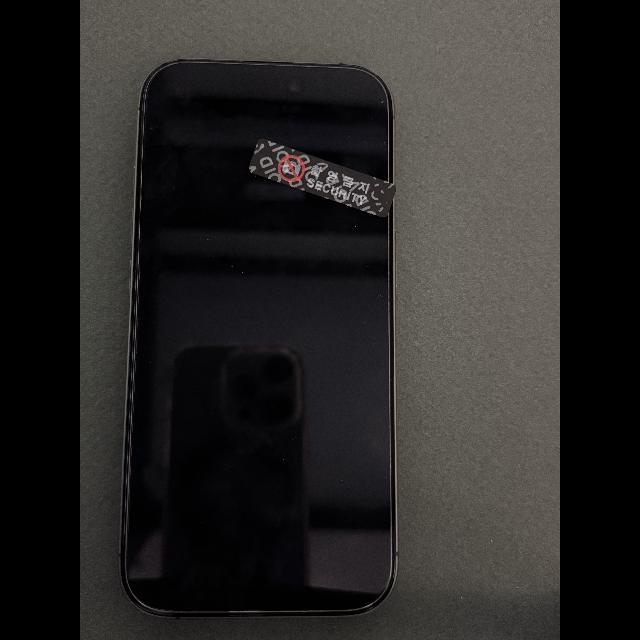lens: (288, 78, 302, 92)
phone: (118, 59, 399, 618)
sticker: (248, 138, 397, 217)
